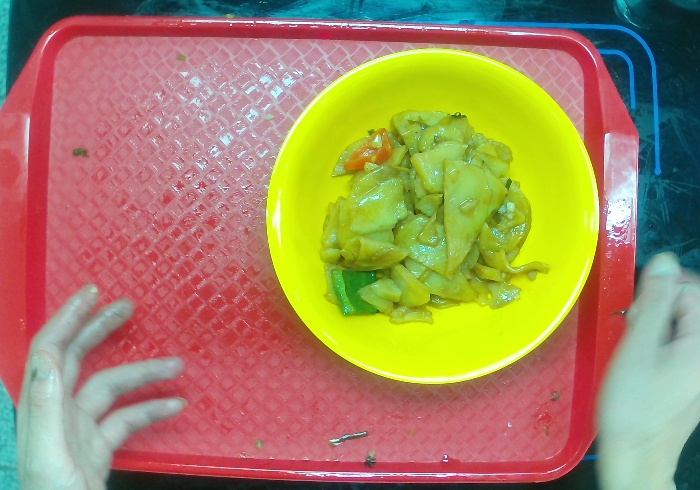YKMZ-Huang_Se_Tang_Wan: (263, 46, 600, 386)
